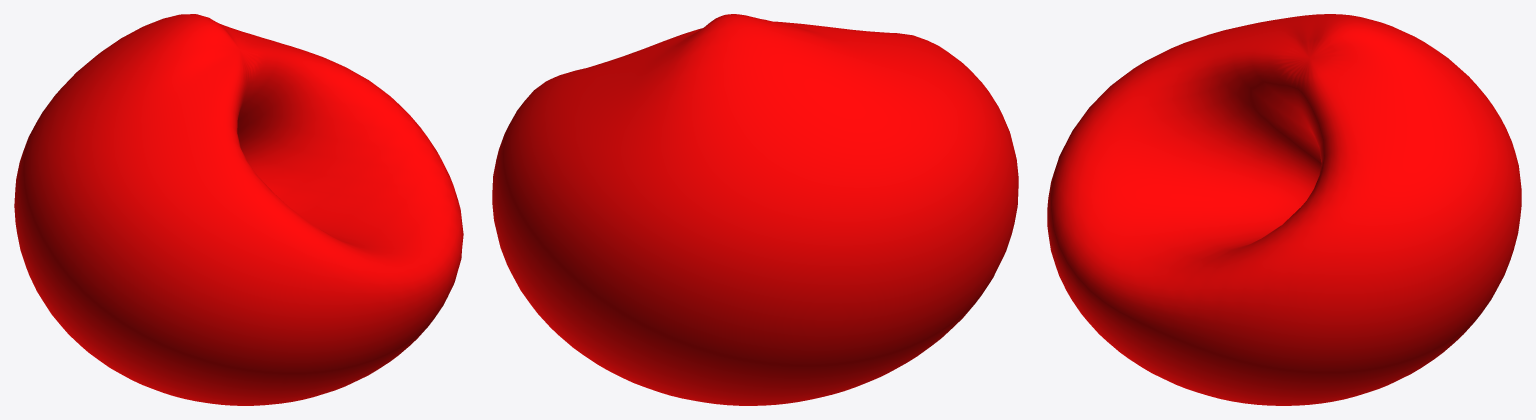
Rendered from bean bag .fbx.
3 renders of one model, left to right at view 1: azimuth 30°, elevation 25°; view 2: azimuth 150°, elevation 25°; view 3: azimuth 270°, elevation 25°, orthographic. The views are drawn at different scales.
Parts seen in each view (by area): view 1: b_bag; view 2: b_bag; view 3: b_bag.
Boxes of the visible parts, x1,y1,x2,y2 form: b_bag: [14, 14, 463, 405]; b_bag: [492, 14, 1018, 405]; b_bag: [1047, 14, 1521, 405].
Size of the model in its own units: 46.81 by 38.71 by 47.78.
